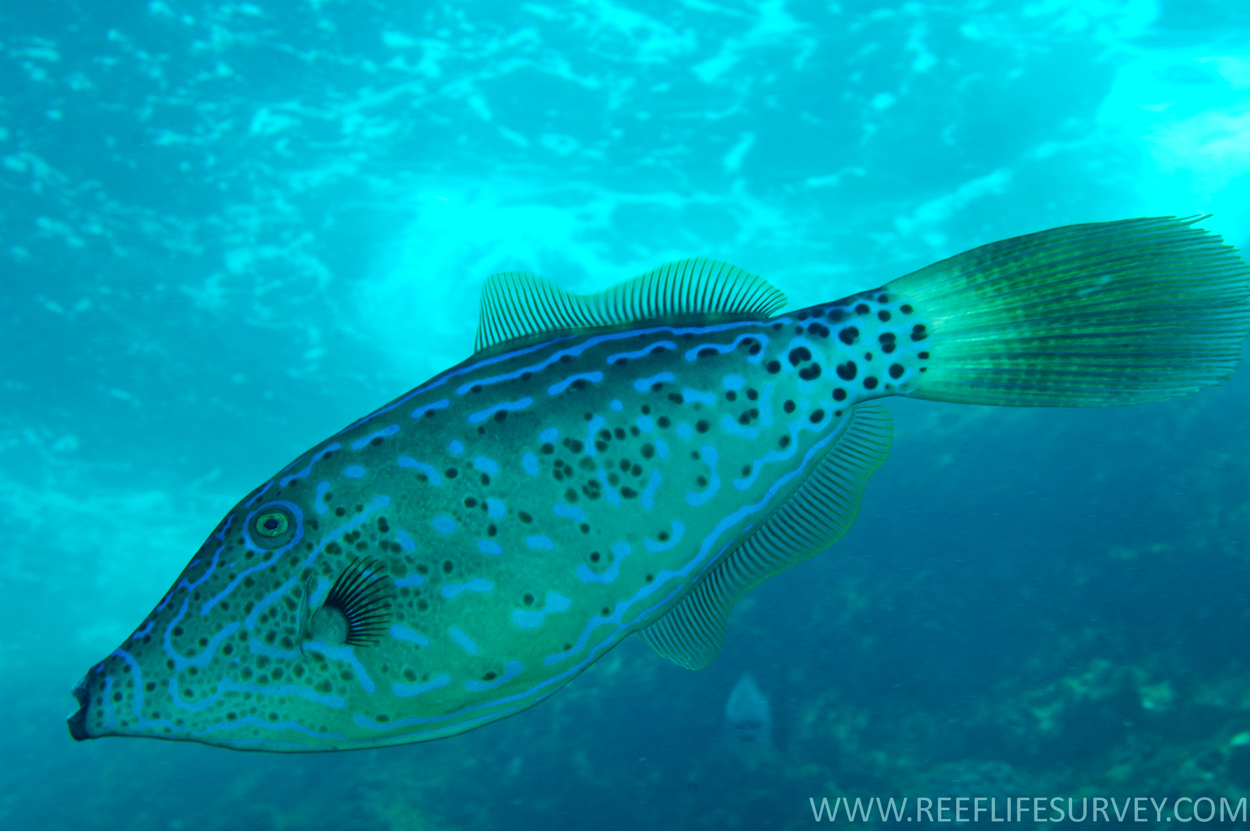Aluterus_scriptus: (53, 203, 1247, 767)
